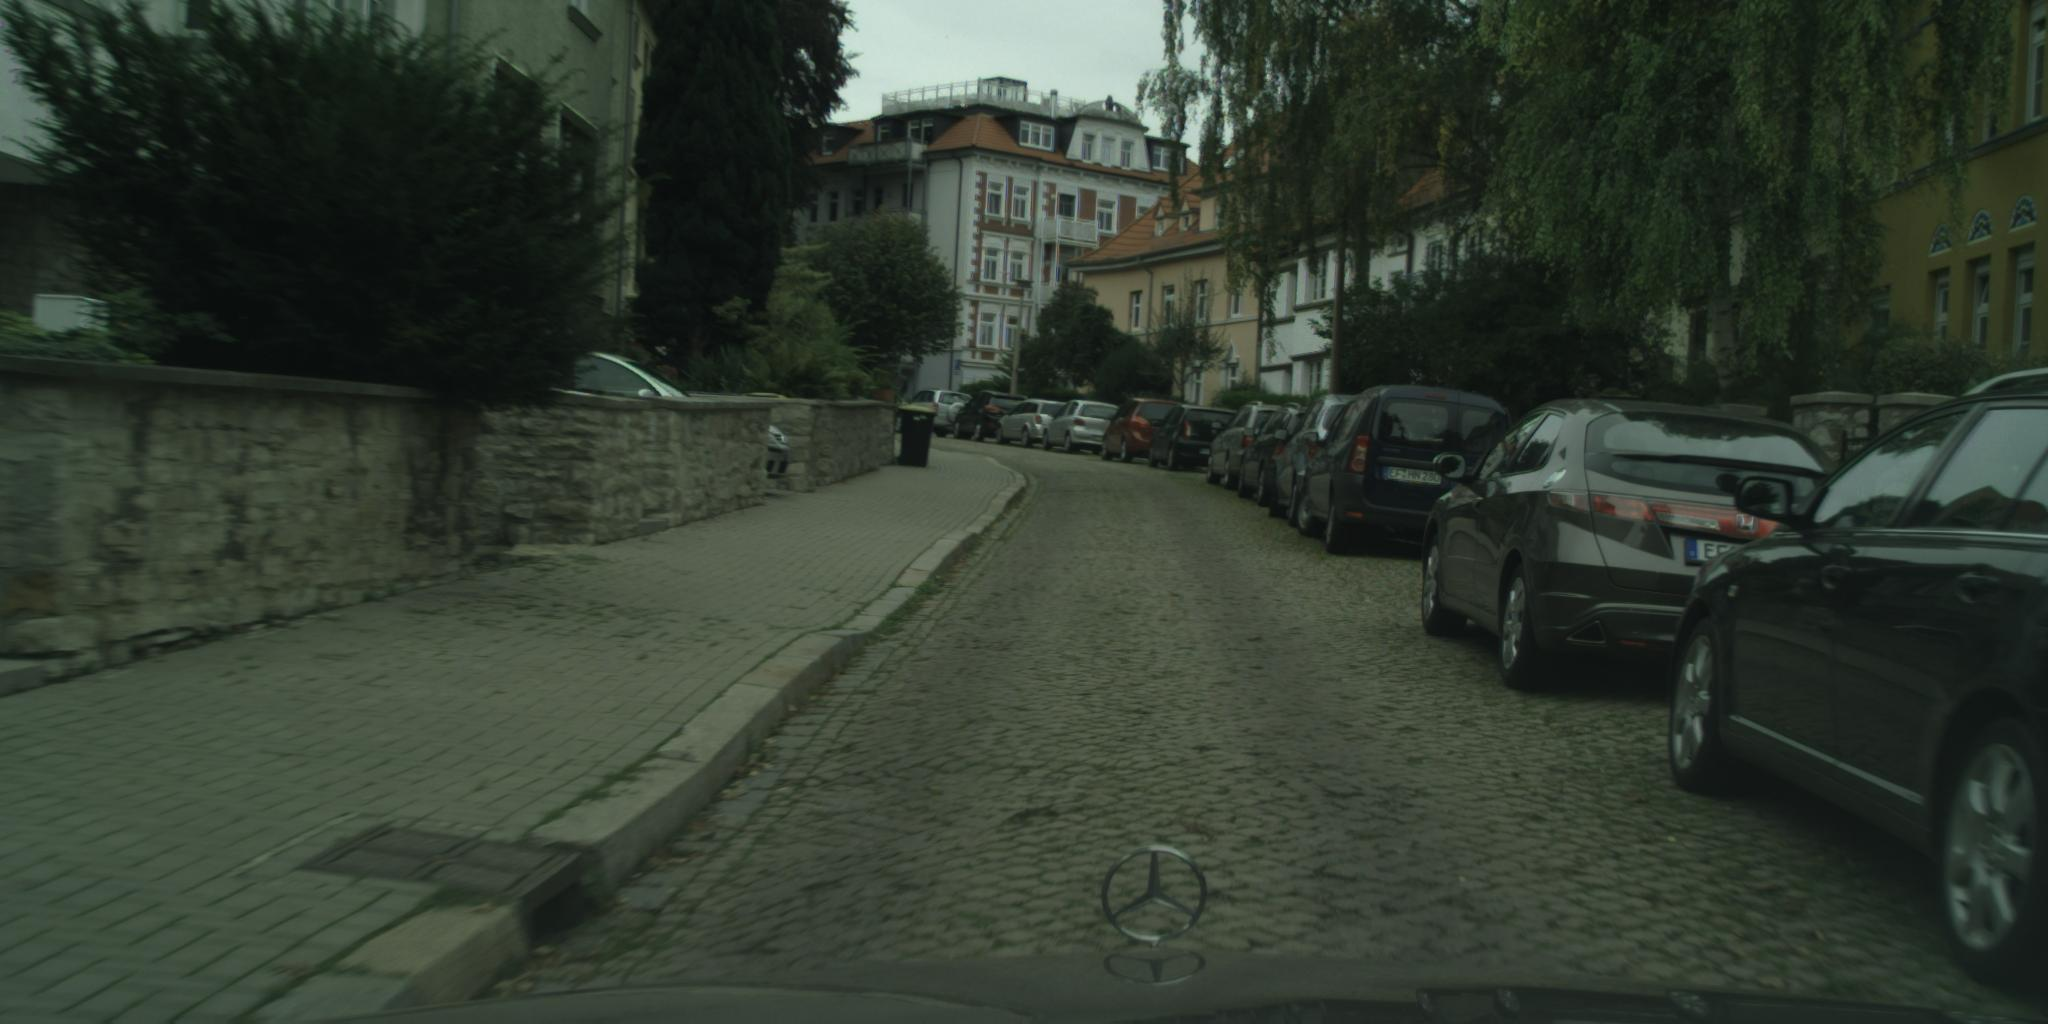car: (1668, 367, 2048, 995), (1422, 398, 1842, 694), (1296, 385, 1512, 555), (538, 350, 792, 481), (1270, 394, 1368, 529), (1240, 404, 1317, 509), (1207, 402, 1287, 492), (1149, 405, 1241, 472), (1102, 398, 1187, 464), (1044, 401, 1123, 456), (895, 388, 978, 438), (953, 391, 1031, 443), (997, 400, 1072, 449)
